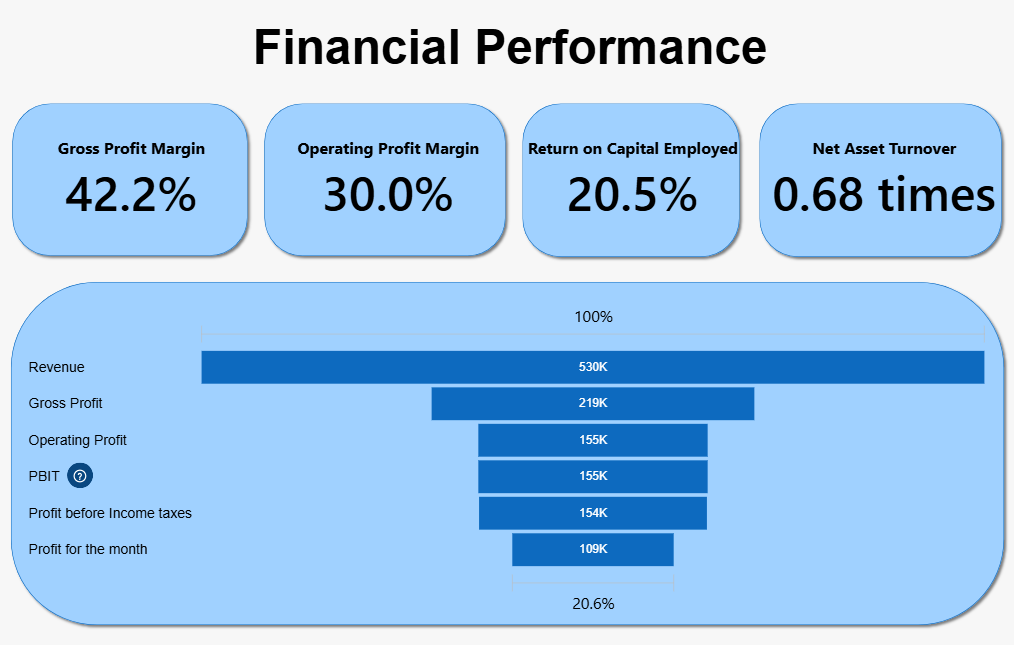

The dashboard page shown, as its layout file describes it:
{"tool":"powerbi","page":{"name":"Financial Performance","canvas":[1698,1080],"ordinal":0},"visuals":[{"type":"shape","box":[15.1,164.8,410,272],"z":0},{"type":"shape","box":[435,165,420,272.5],"z":1000},{"type":"shape","box":[865.4,165.4,380,274],"z":2000},{"type":"shape","box":[13.3,463.3,1673.3,590],"z":2500},{"type":"shape","box":[1259.4,165.4,422,274],"z":3000},{"type":"cardVisual","fields":{"Data":["Min(All Ratios.Gross Profit Margin (GPM))","Sum(All Ratios.Operating Profit Margin (OPM))"]},"box":[13.1,212.8,848,180],"z":4000},{"type":"funnel","fields":{"Category":["Profit.Profit Item"],"Y":["Sum(Profit.Value)"]},"box":[35,477.5,1630,577.5],"z":5000},{"type":"actionButton","box":[115.5,772.7,43.6,42.7],"z":6000},{"type":"textbox","box":[405,35,897.5,92.5],"z":7000},{"type":"cardVisual","fields":{"Data":["Sum(All Ratios.Return on Capital Employed (ROCE))","Min(All Ratios.Net Asset Turnover)"]},"box":[852.5,212.5,830,178.3],"z":8000}]}

Visuals, with their boxes in screenshot pixels (x1, y1, x2, y2), scaled from the page's 1698x1080 canvas onto the 1014x645 screenshot:
shape: region(9, 98, 254, 261)
shape: region(260, 99, 511, 261)
shape: region(517, 99, 744, 262)
shape: region(8, 277, 1007, 629)
shape: region(752, 99, 1004, 262)
cardVisual - Min(All Ratios.Gross Profit Margin (GPM)) x Sum(All Ratios.Operating Profit Margin (OPM)): region(8, 127, 514, 235)
funnel - Profit.Profit Item x Sum(Profit.Value): region(21, 285, 994, 630)
actionButton: region(69, 461, 95, 487)
textbox: region(242, 21, 778, 76)
cardVisual - Sum(All Ratios.Return on Capital Employed (ROCE)) x Min(All Ratios.Net Asset Turnover): region(509, 127, 1005, 233)
